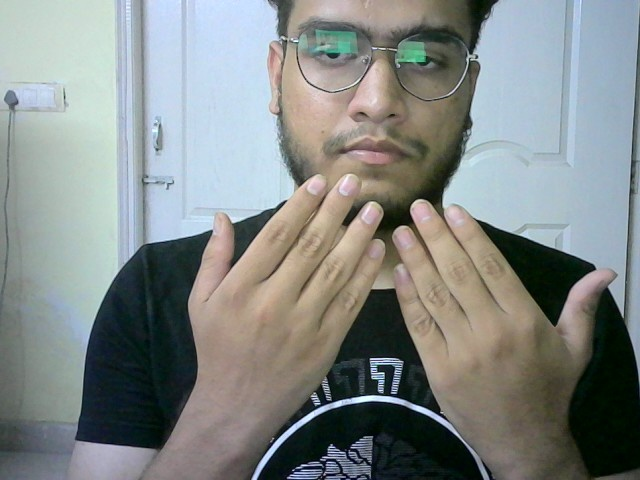Thank You: (185, 171, 620, 439)
